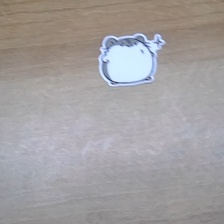mouse: (97, 32, 167, 90)
